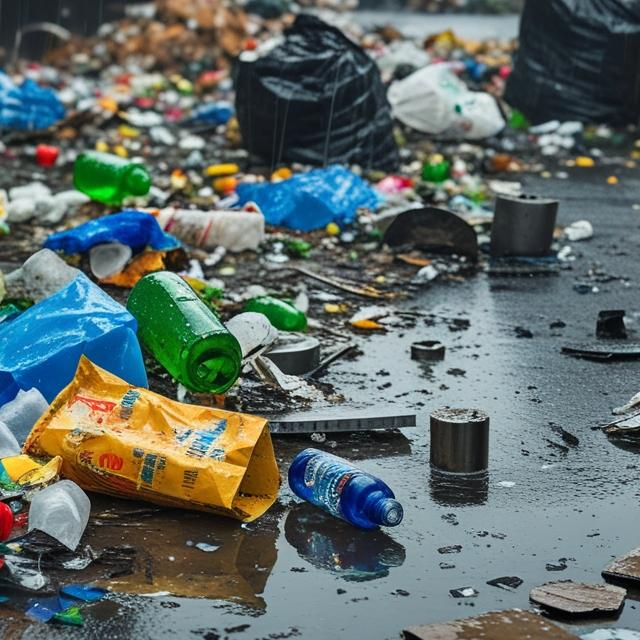metal: (433, 408, 495, 472)
plastic: (23, 368, 287, 534)
